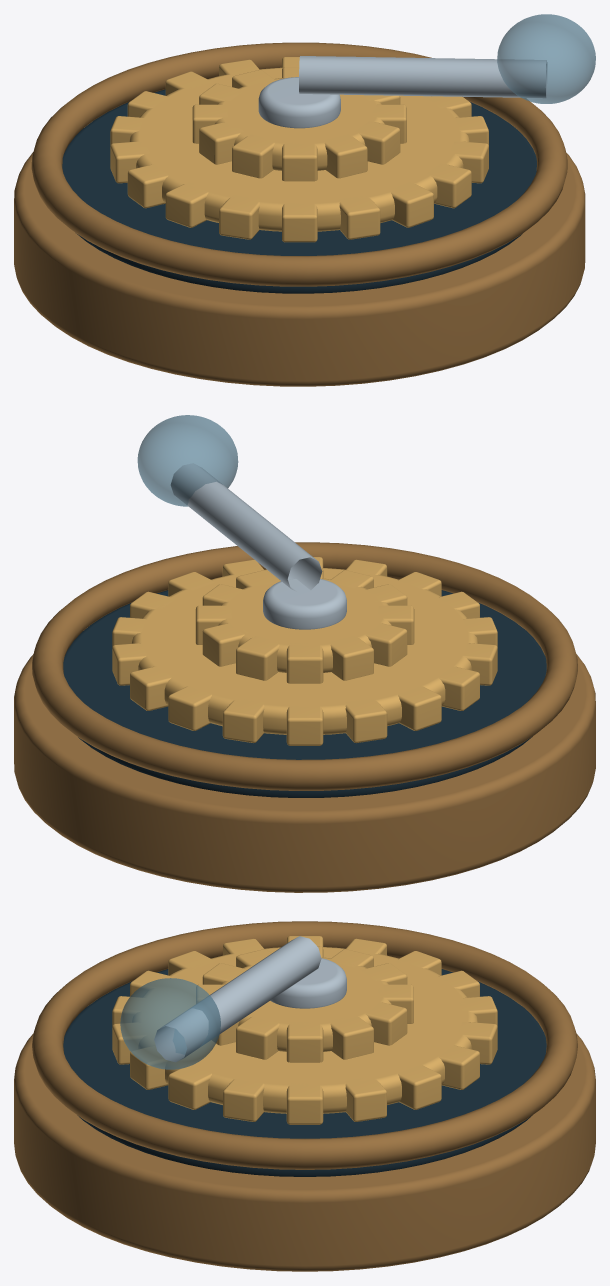
Rendered from dispatch-escapement-v1.glb.
3 views of the same model, one above another, from view 1: azimuth 30°, elevation 25°; view 2: azimuth 150°, elevation 25°; view 3: azimuth 270°, elevation 25° (orthographic).
Visible parts, largest first — view 1: EscapementFoot, ClockBezel, EscapementEnamel, ClockGear, EscapementLever, LeverCrystal, ClockGear.001, BalanceHub, GearTooth.013, GearTooth.011, GearTooth.027, GearTooth.014 (+19 smaller); view 2: EscapementFoot, ClockBezel, EscapementEnamel, ClockGear, LeverCrystal, EscapementLever, ClockGear.001, BalanceHub, GearTooth.007, GearTooth.005, GearTooth.023, GearTooth.021 (+17 smaller); view 3: EscapementFoot, ClockBezel, EscapementEnamel, ClockGear, LeverCrystal, EscapementLever, ClockGear.001, BalanceHub, GearTooth.001, GearTooth.016, GearTooth.002, GearTooth.019 (+21 smaller).
Part boxes in pixels (left/top/right/bottom): EscapementFoot: left=14, top=122, right=585, bottom=386; ClockBezel: left=31, top=42, right=567, bottom=286; EscapementEnamel: left=62, top=89, right=536, bottom=293; ClockGear: left=129, top=67, right=469, bottom=231; EscapementLever: left=299, top=56, right=547, bottom=98; LeverCrystal: left=497, top=14, right=595, bottom=103; ClockGear.001: left=215, top=78, right=384, bottom=170; BalanceHub: left=258, top=77, right=340, bottom=128; GearTooth.013: left=339, top=196, right=380, bottom=239; GearTooth.011: left=219, top=195, right=260, bottom=239; GearTooth.027: left=324, top=134, right=367, bottom=178; GearTooth.014: left=391, top=182, right=433, bottom=227; EscapementFoot: left=14, top=624, right=595, bottom=892; ClockBezel: left=32, top=542, right=577, bottom=790; EscapementEnamel: left=63, top=590, right=546, bottom=797; ClockGear: left=131, top=568, right=478, bottom=734; LeverCrystal: left=137, top=415, right=238, bottom=506; EscapementLever: left=171, top=463, right=322, bottom=592; ClockGear.001: left=218, top=578, right=391, bottom=672; BalanceHub: left=263, top=578, right=346, bottom=629; GearTooth.007: left=345, top=698, right=387, bottom=742; GearTooth.005: left=222, top=699, right=264, bottom=742; GearTooth.023: left=329, top=636, right=373, bottom=680; GearTooth.021: left=236, top=636, right=279, bottom=680; EscapementFoot: left=14, top=1034, right=595, bottom=1271; ClockBezel: left=32, top=921, right=577, bottom=1169; EscapementEnamel: left=63, top=969, right=546, bottom=1176; ClockGear: left=132, top=947, right=477, bottom=1113; LeverCrystal: left=120, top=978, right=220, bottom=1069; EscapementLever: left=154, top=936, right=321, bottom=1062; ClockGear.001: left=221, top=957, right=391, bottom=1051; BalanceHub: left=270, top=958, right=346, bottom=1008; GearTooth.001: left=345, top=1078, right=386, bottom=1121; GearTooth.016: left=168, top=1065, right=214, bottom=1109; GearTooth.002: left=396, top=1065, right=441, bottom=1109; GearTooth.019: left=329, top=1016, right=373, bottom=1059.
Size of the model in its own units: 1.04 by 0.51 by 1.04.
